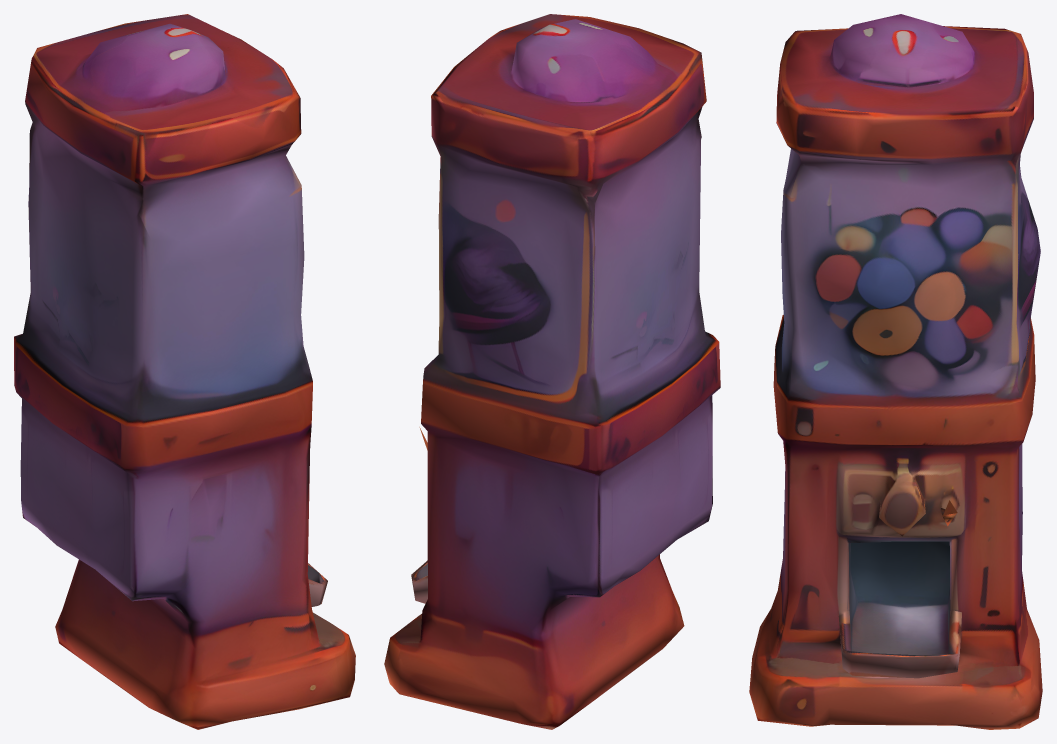
The model's file is gumball+machine+3d+model.obj.
3 views of the same model, side by side, from view 1: azimuth 30°, elevation 25°; view 2: azimuth 150°, elevation 25°; view 3: azimuth 270°, elevation 25° (orthographic).
Parts seen in each view (by area): view 1: tripo_node_0ca238cb-a8be-4502-ad44-fed7bcecedda; view 2: tripo_node_0ca238cb-a8be-4502-ad44-fed7bcecedda; view 3: tripo_node_0ca238cb-a8be-4502-ad44-fed7bcecedda.
Part boxes in pixels (x1,y1,x2,y2): tripo_node_0ca238cb-a8be-4502-ad44-fed7bcecedda: (14,14,355,729); tripo_node_0ca238cb-a8be-4502-ad44-fed7bcecedda: (384,14,720,729); tripo_node_0ca238cb-a8be-4502-ad44-fed7bcecedda: (749,14,1042,729).
Bounding box in the file's own units: 0.3912 × 0.9956 × 0.4087.
1 material, 1 textured.
